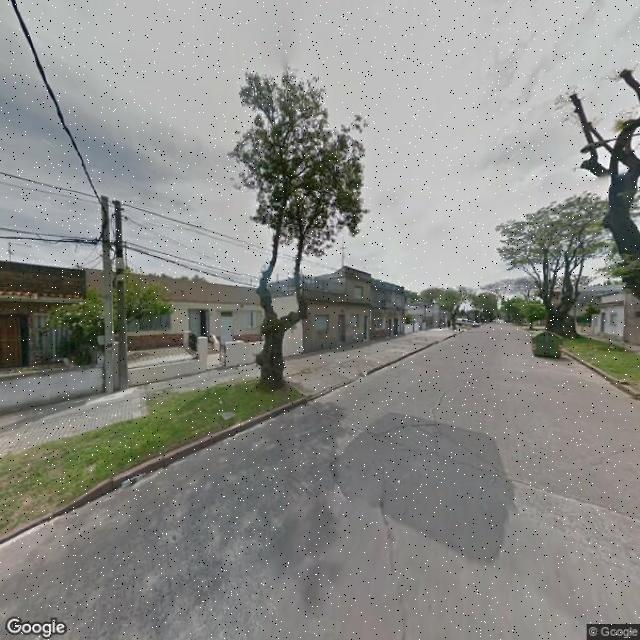garbage container: (526, 325, 569, 365)
